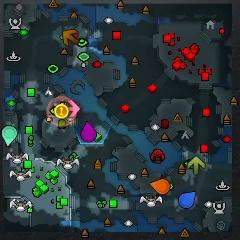Other: (54, 104, 68, 117)
p1: (179, 191, 196, 209)
p2: (2, 125, 17, 147)
p3: (81, 122, 96, 142)
p5: (150, 178, 170, 194)
x1: (67, 99, 80, 117)
x2: (188, 156, 205, 175)
x5: (62, 30, 79, 45)
